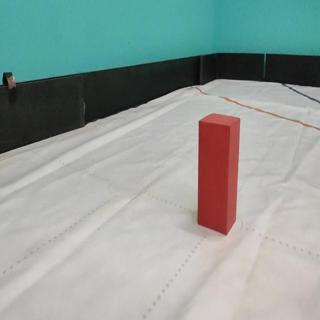redbox: (197, 113, 240, 235)
